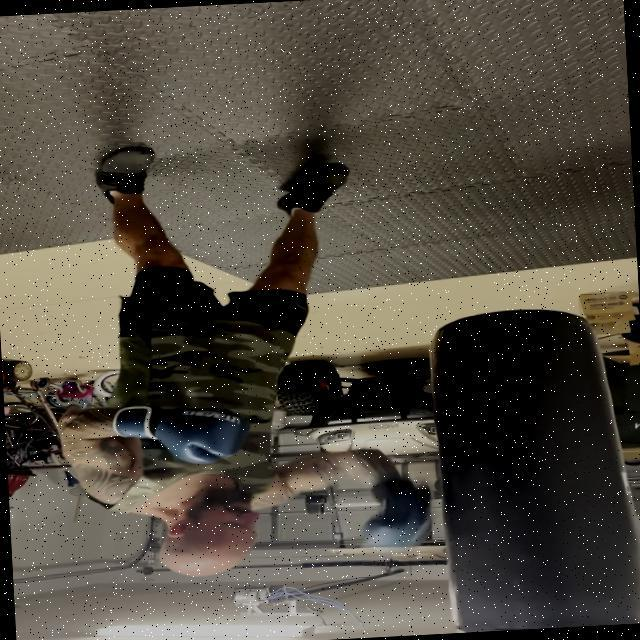bag: (428, 301, 640, 634)
uppercut: (49, 374, 442, 588)
